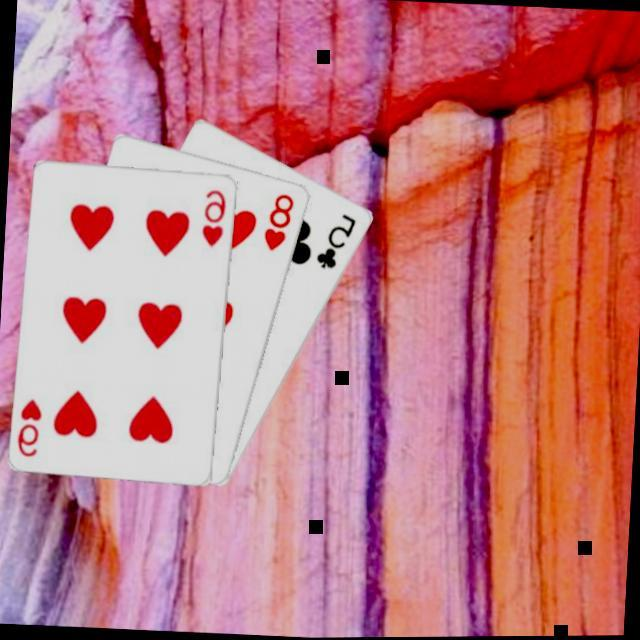5C: (314, 212, 362, 276)
6H: (15, 397, 46, 461), (200, 188, 230, 252)
8H: (262, 192, 298, 258)
